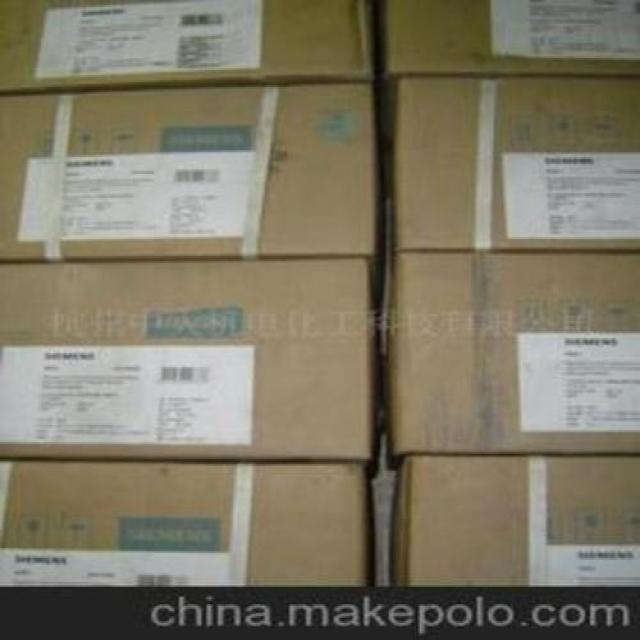box: (0, 259, 375, 466), (0, 84, 378, 261), (393, 251, 640, 457), (0, 457, 371, 585), (397, 75, 640, 254), (388, 454, 640, 589), (384, 0, 640, 77)
